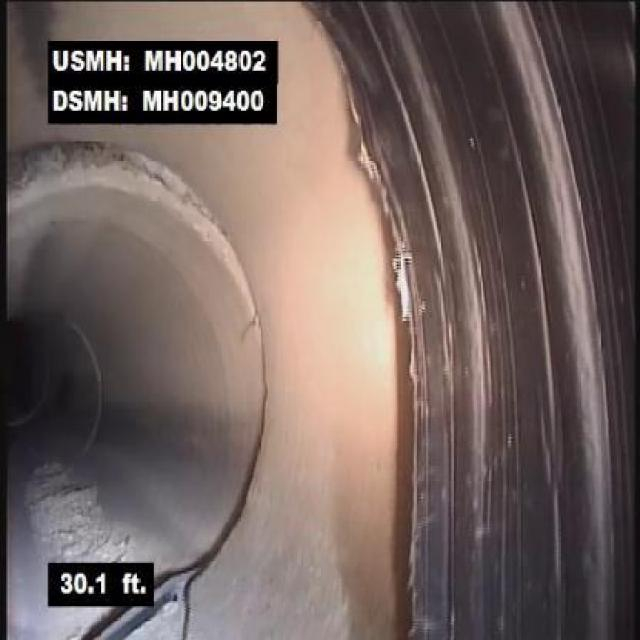Joint offset: (12, 136, 206, 210), (180, 212, 258, 328)
